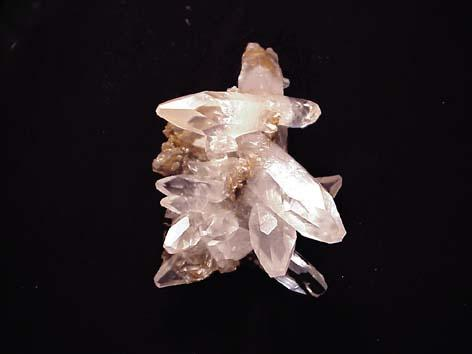calcite: (154, 43, 347, 296)
